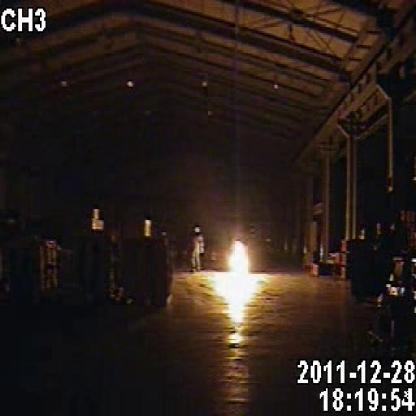fire: (206, 235, 284, 338)
